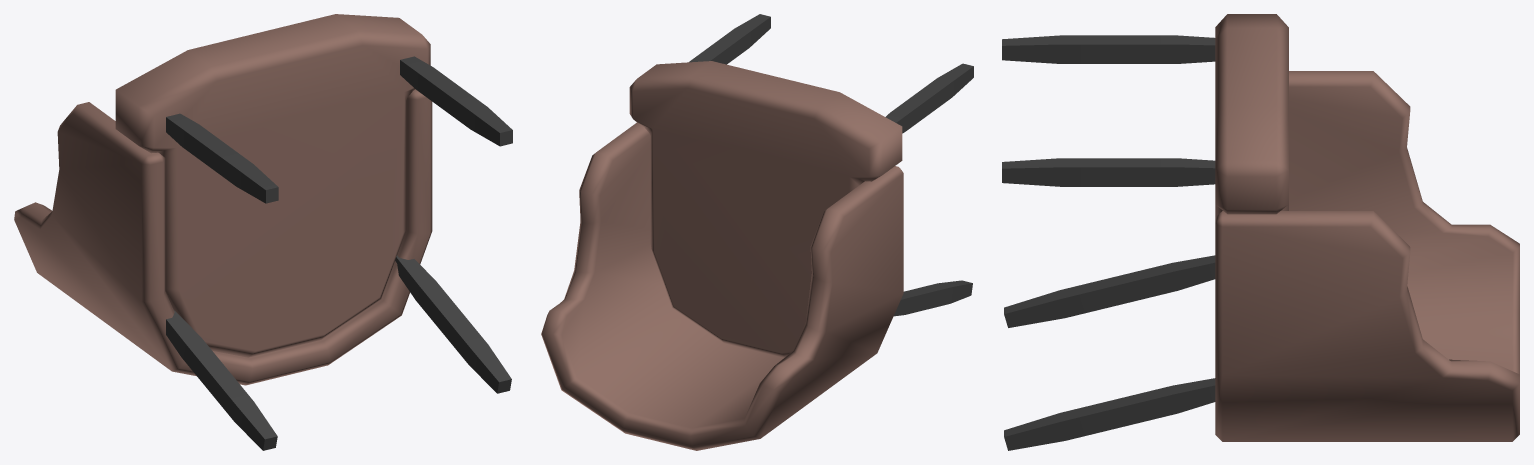
File: armchair.glb
3 renders of one model, left to right at view 1: azimuth 30°, elevation 25°; view 2: azimuth 150°, elevation 25°; view 3: azimuth 270°, elevation 25°, orthographic. The views are drawn at different scales.
Visible parts, largest first — view 1: lounge_chair_015; view 2: lounge_chair_015; view 3: lounge_chair_015.
Part boxes in pixels (<box>): lounge_chair_015: <box>14,14,512,450</box>; lounge_chair_015: <box>541,14,973,450</box>; lounge_chair_015: <box>1002,14,1519,450</box>.
Size of the model in its own units: 0.6577 by 0.6995 by 0.94.
Materials: 1 (1 with a texture image).
